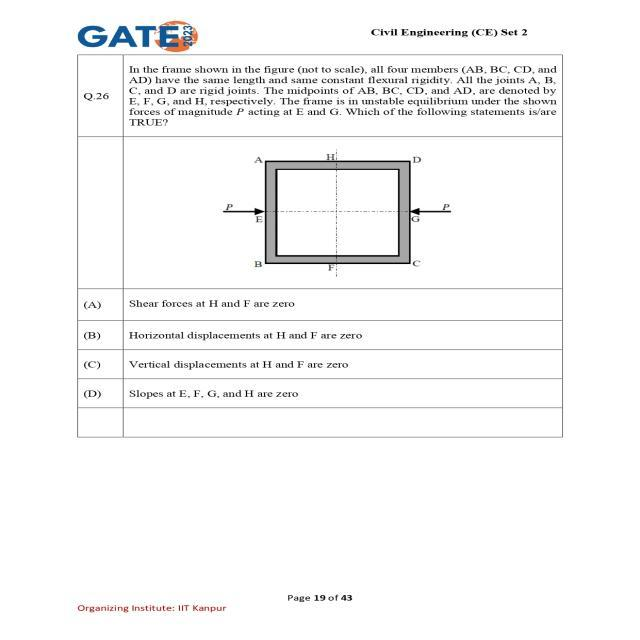Answer_Block: (80, 292, 556, 434)
Question_Answer_Block: (76, 56, 558, 436)
Question_Block: (80, 59, 556, 288)
Question_Paper_Area: (76, 55, 562, 437)
